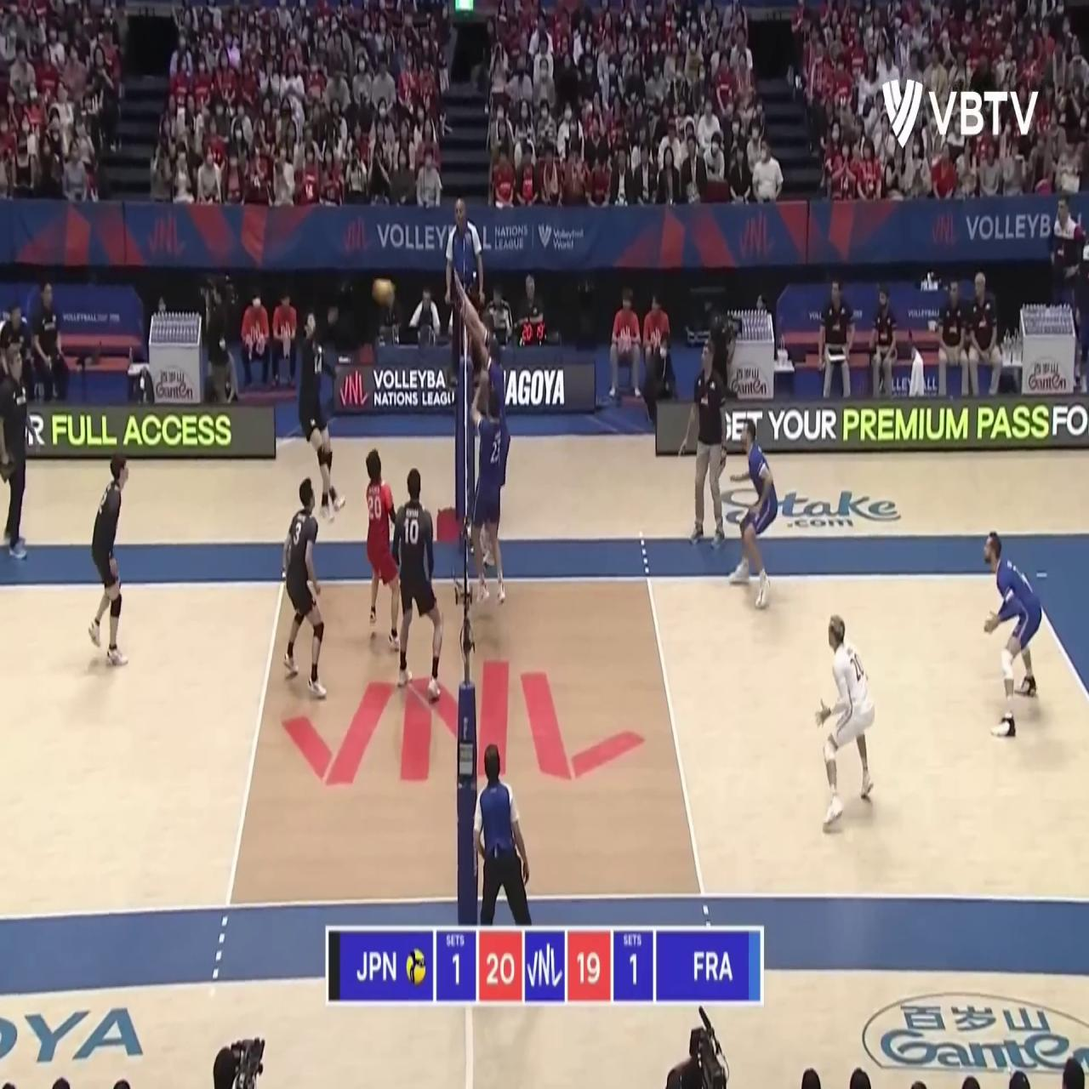ball: (371, 277, 395, 310)
